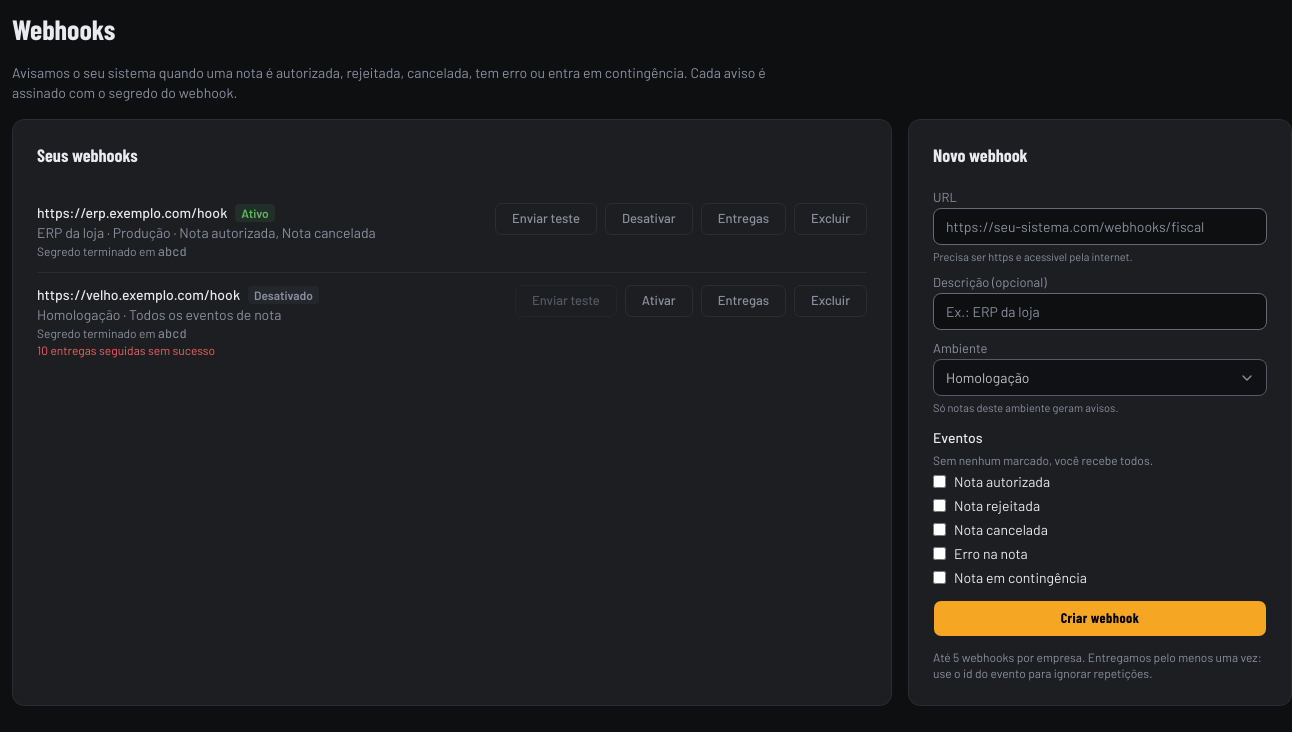
Test: webhooks › abrir as entregas lista evento, estado, tentativas e próxima tentativa; detalhes mostram o log
The width and height of the screenshot is (1292, 732).
Click the button with aria-label "Entregas de https://erp.exemplo.com/hook" at (743, 218), box [701,202,786,234]
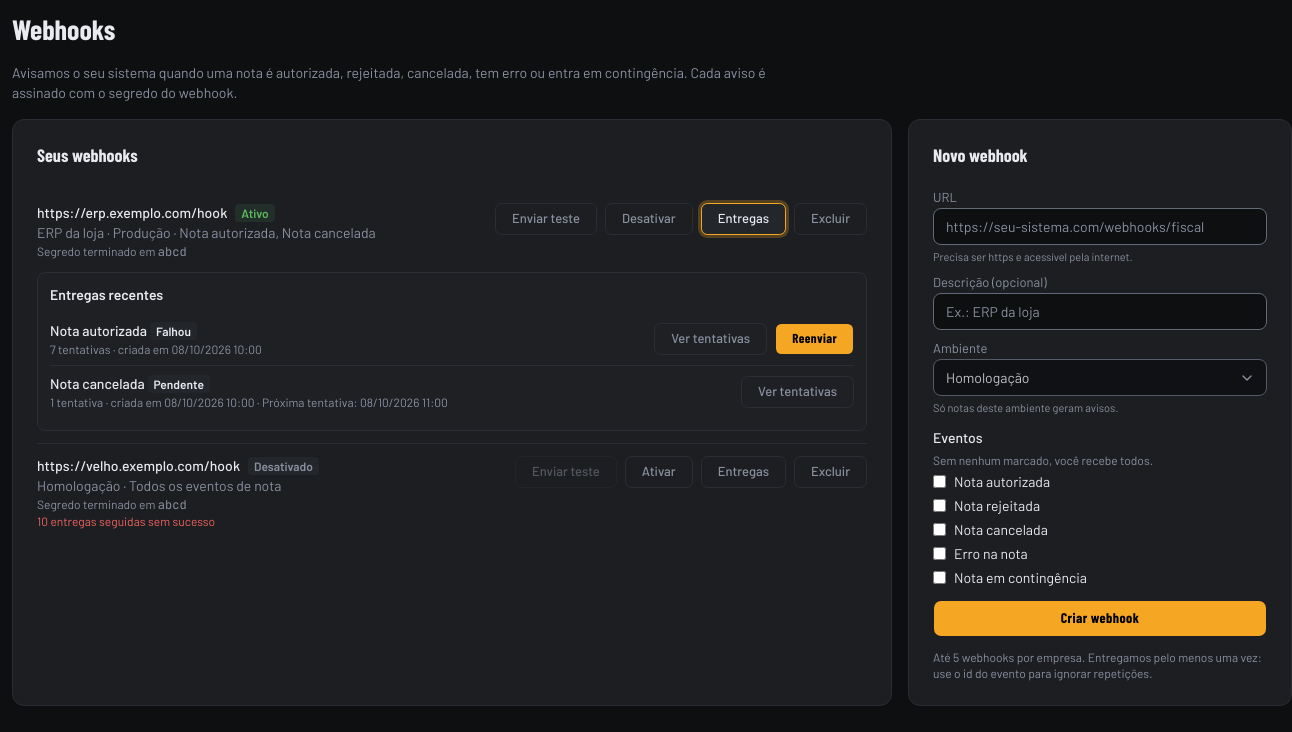
Expected: the text "Nota autorizada" is shown, [50,322,147,338]
Expected: the text "7 tentativas · criada em 08/10/2026 10:00" is shown, [50,340,262,356]
Expected: the text "Próxima tentativa: 08/10/2026 11:00" is shown, [255,394,448,408]
Click the button "Ver tentativas" in the row of "Falhou" at (711, 338), box [654,322,767,354]
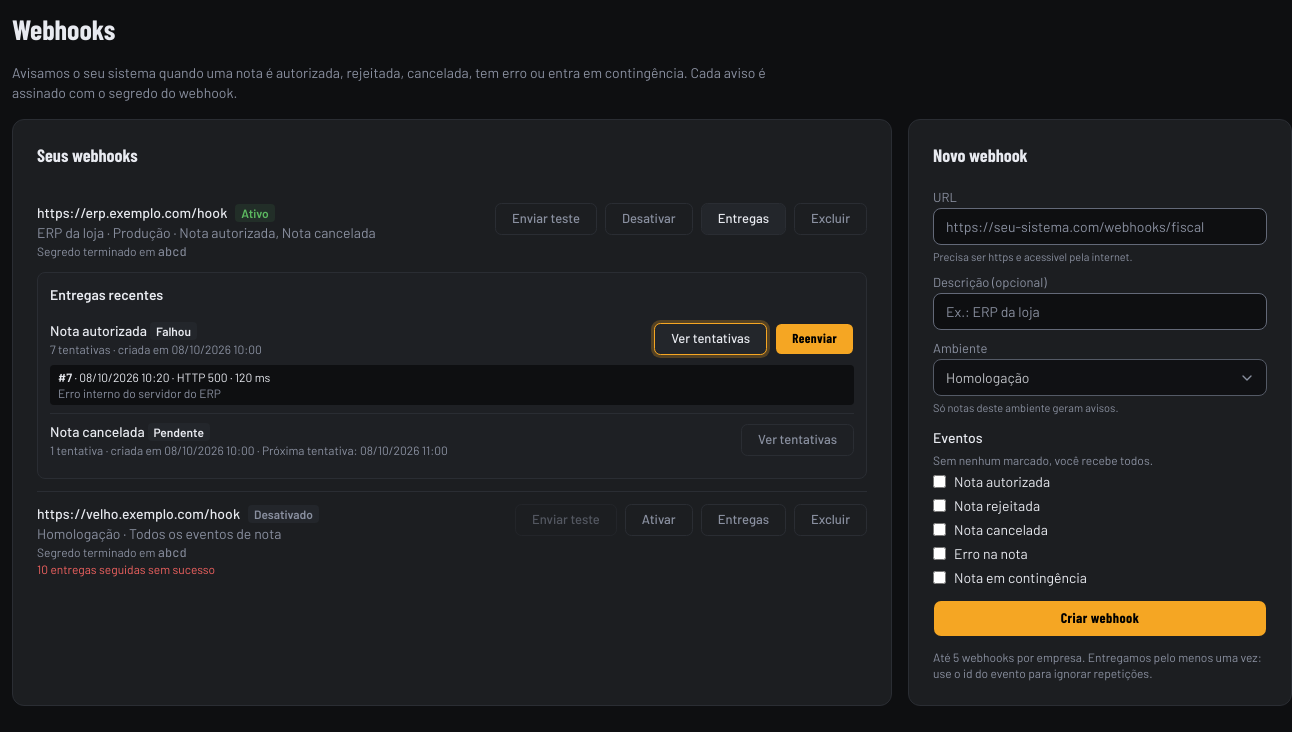
Expected: the list item "HTTP 500" is shown, [177,370,228,384]
Expected: the text "Erro interno do servidor do ERP" is shown, [58,386,221,400]
Click the button "Ver tentativas" in the row of "· Próxima tentativa: 08/10/2026 11:00" at (798, 440), box [741,424,854,456]
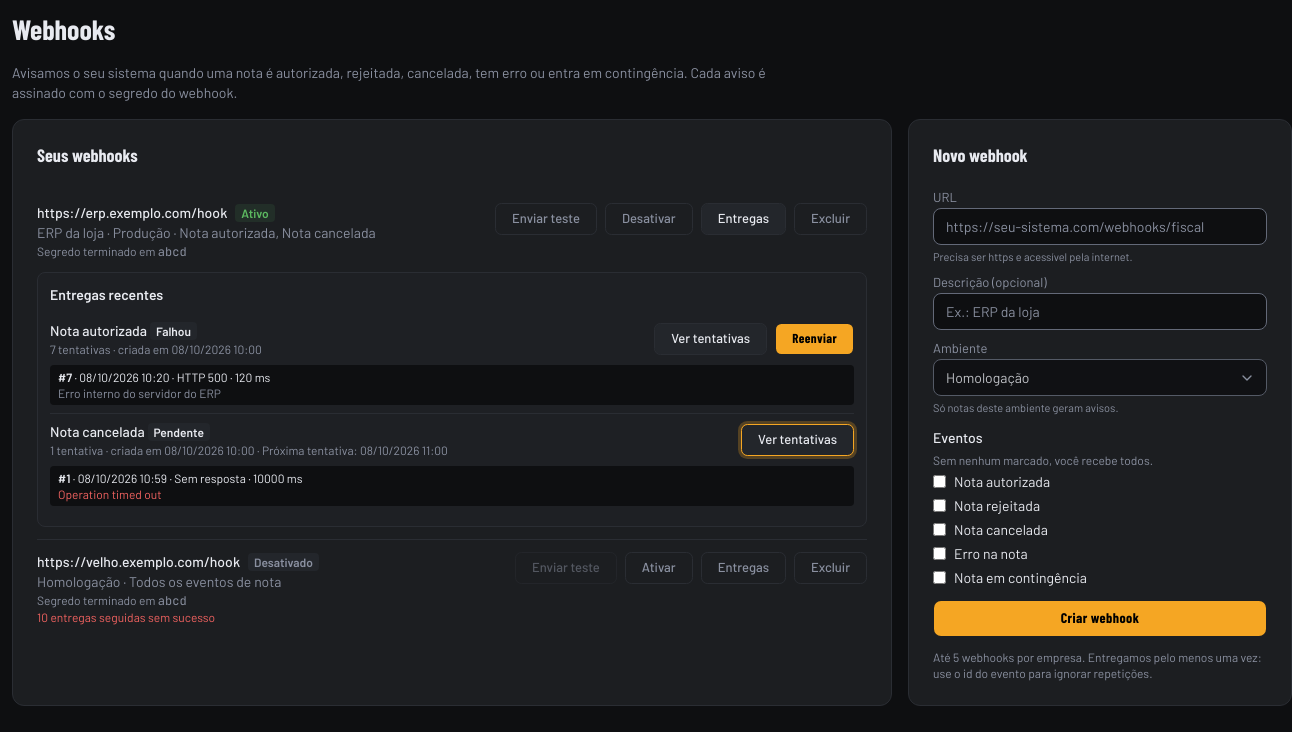
Expected: the text "Operation timed out" is shown, [58,486,162,500]
